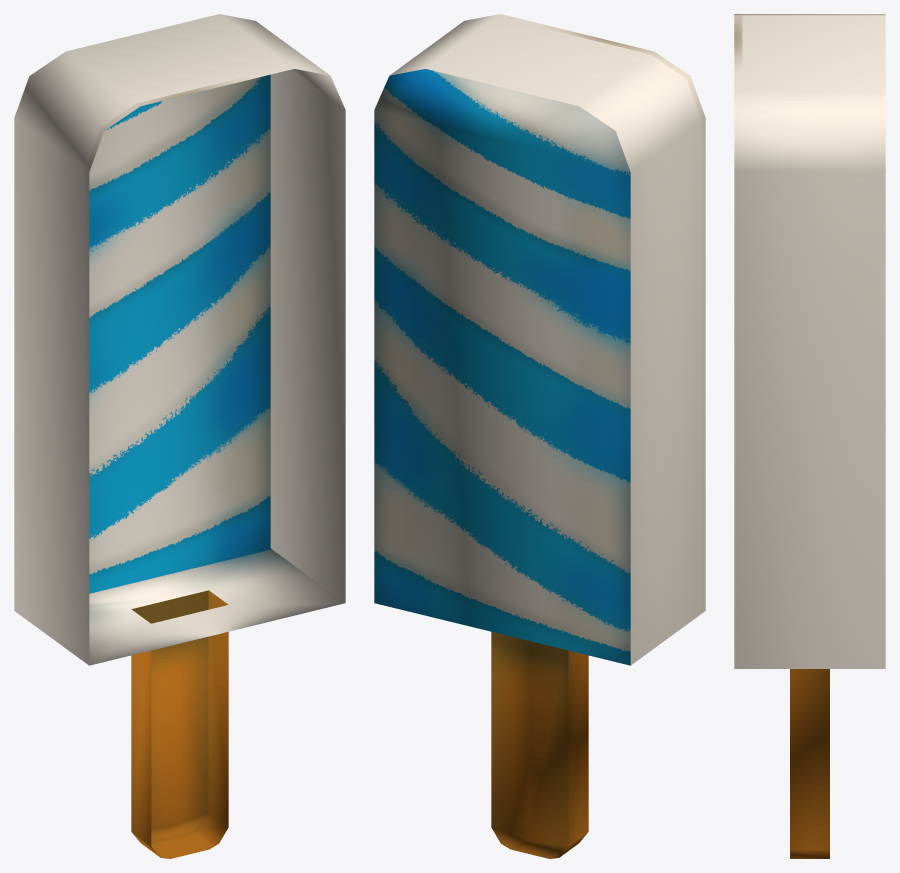
Rendered from Obj_piller_02.fbx.
The picture shows the model from 3 angles, left to right: view 1: azimuth 30°, elevation 25°; view 2: azimuth 150°, elevation 25°; view 3: azimuth 270°, elevation 25°; orthographic projection.
Parts seen in each view (by area): view 1: watermelon_ice; view 2: watermelon_ice; view 3: watermelon_ice.
Boxes of the visible parts, left/top/right/bottom form: watermelon_ice: left=14, top=14, right=345, bottom=858; watermelon_ice: left=374, top=14, right=705, bottom=858; watermelon_ice: left=734, top=14, right=885, bottom=858.
Bounding box in the file's own units: 137 × 403 × 69.5.
